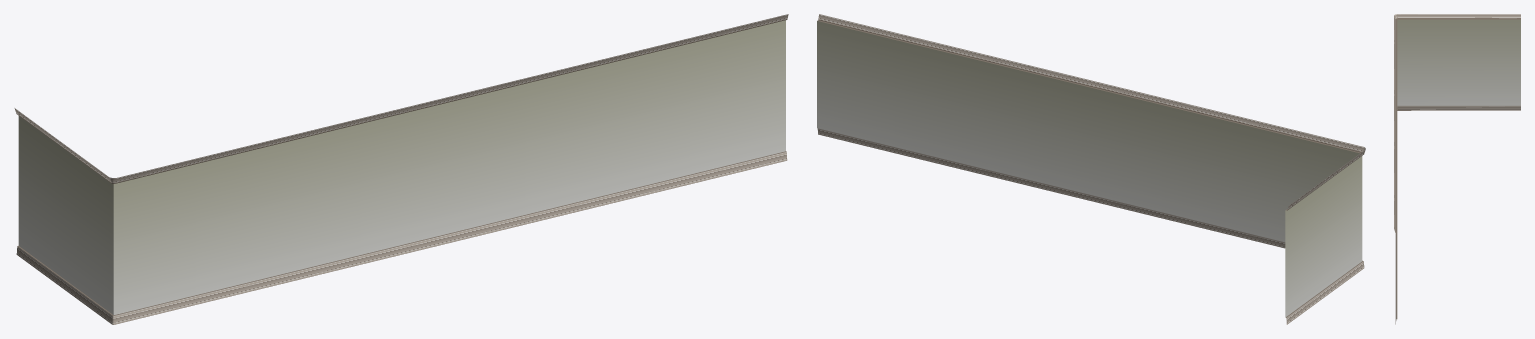
The model's file is SM_Office_Wall_B.fbx.
3 renders of one model, left to right at view 1: azimuth 30°, elevation 25°; view 2: azimuth 150°, elevation 25°; view 3: azimuth 270°, elevation 25°, orthographic. The views are drawn at different scales.
Visible parts, largest first — view 1: wall_B; view 2: wall_B; view 3: wall_B.
Boxes of the visible parts, x1,y1,x2,y2 form: wall_B: [14, 14, 788, 324]; wall_B: [817, 14, 1365, 324]; wall_B: [1394, 14, 1520, 324].
Bounding box in the file's own units: 1414 × 295 × 353.
Materials: 2 (2 with a texture image).
